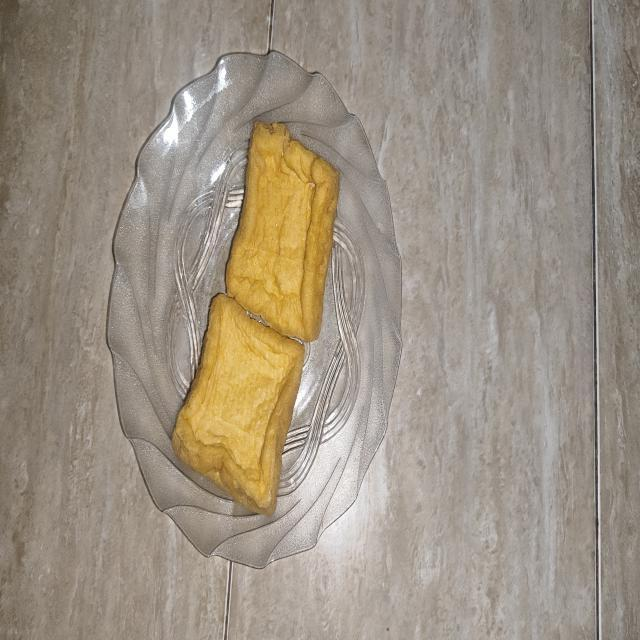tahu_goreng: (172, 294, 304, 516), (226, 121, 340, 342)
